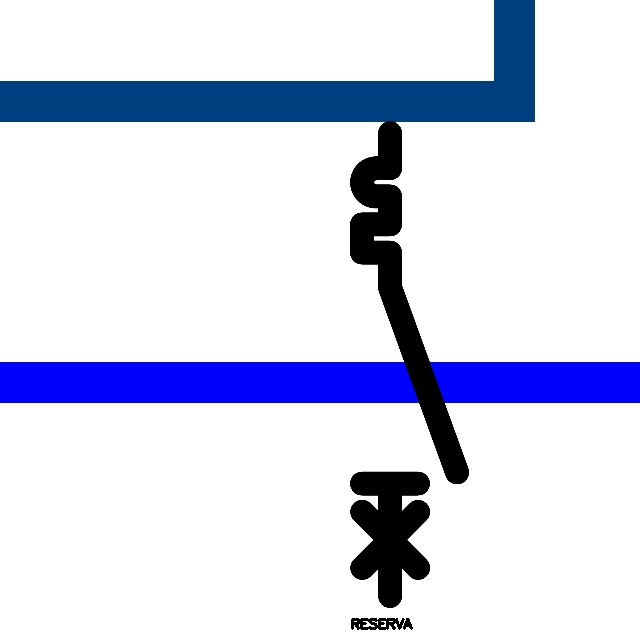interruptor_termomagnetico: (350, 121, 469, 608)
